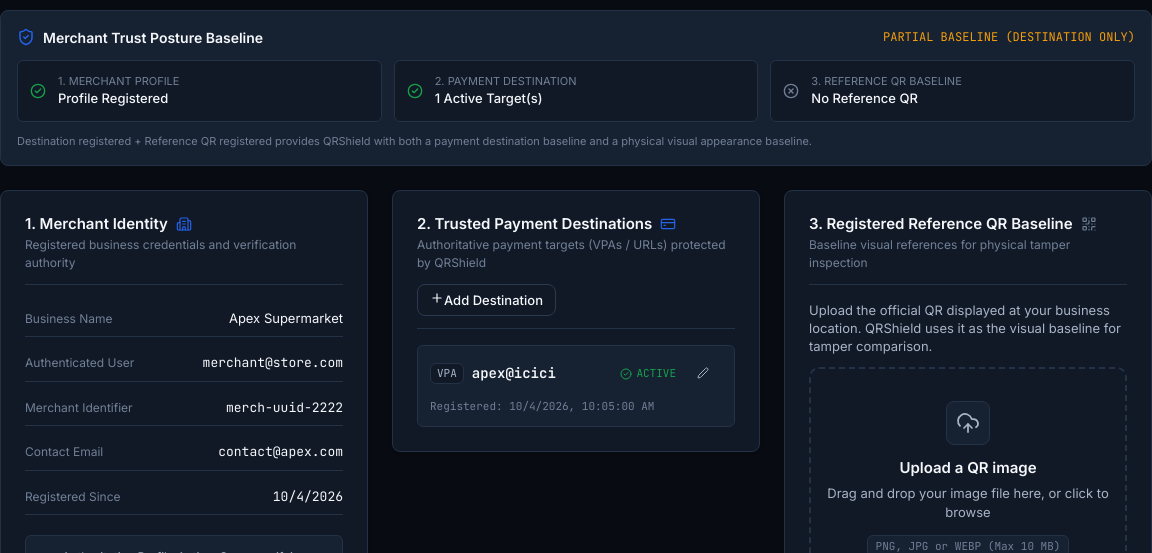
it: DashboardPage & Protected Route Tests › 12. destination error renders correctly when registration fails
Click the button "Add Destination" at (486, 300), box [417,284,556,316]
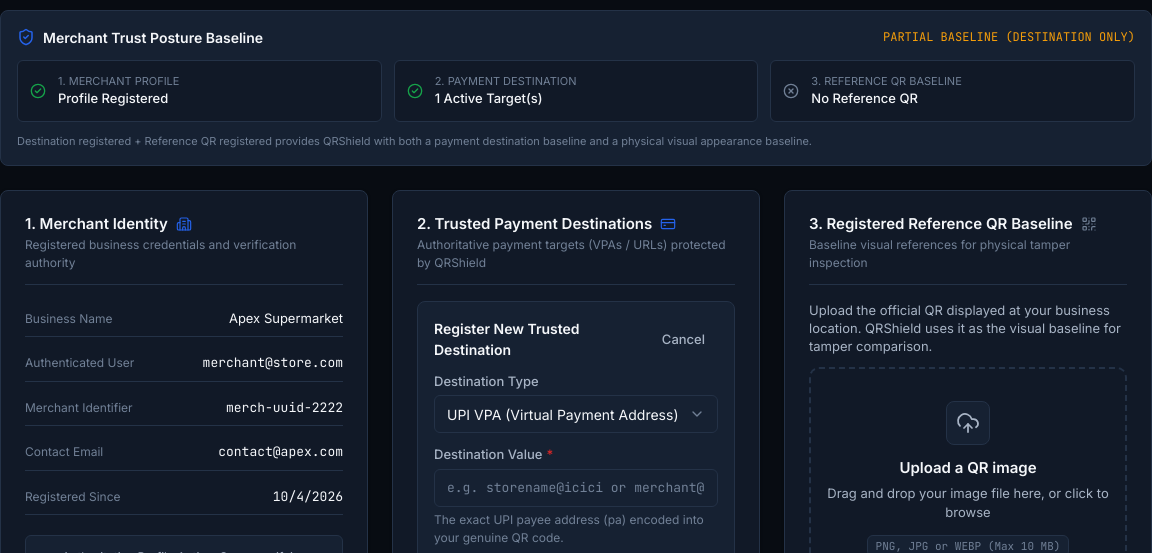
Type "bad@domain" into the field labelled "Destination Value" at (576, 488), box [434,469,718,507]
(page scrolled)
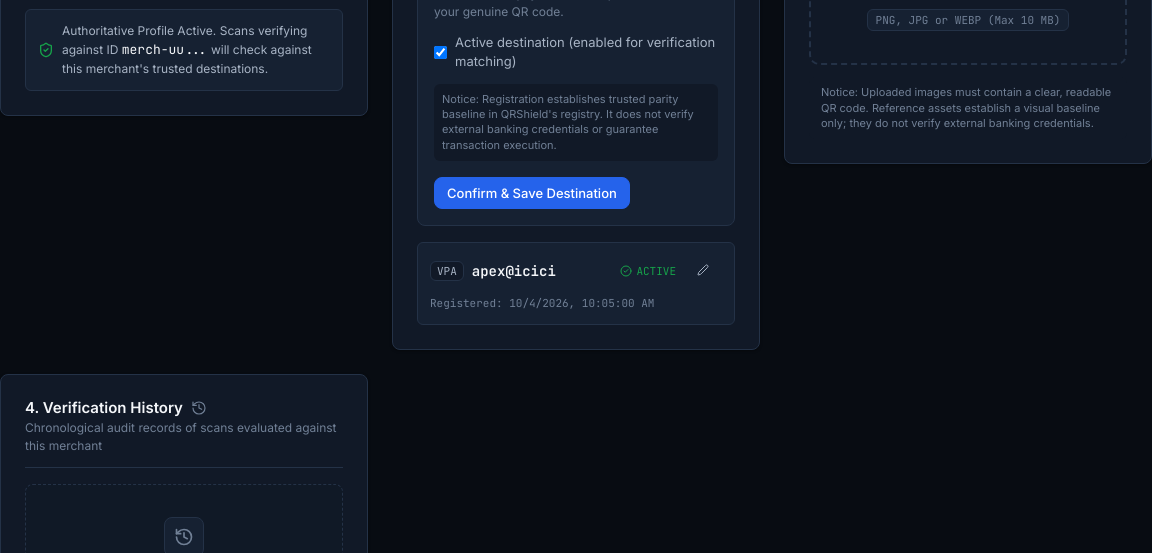
Click the button "Confirm & Save Destination" at (532, 193), box [434,177,630,209]
(page scrolled)
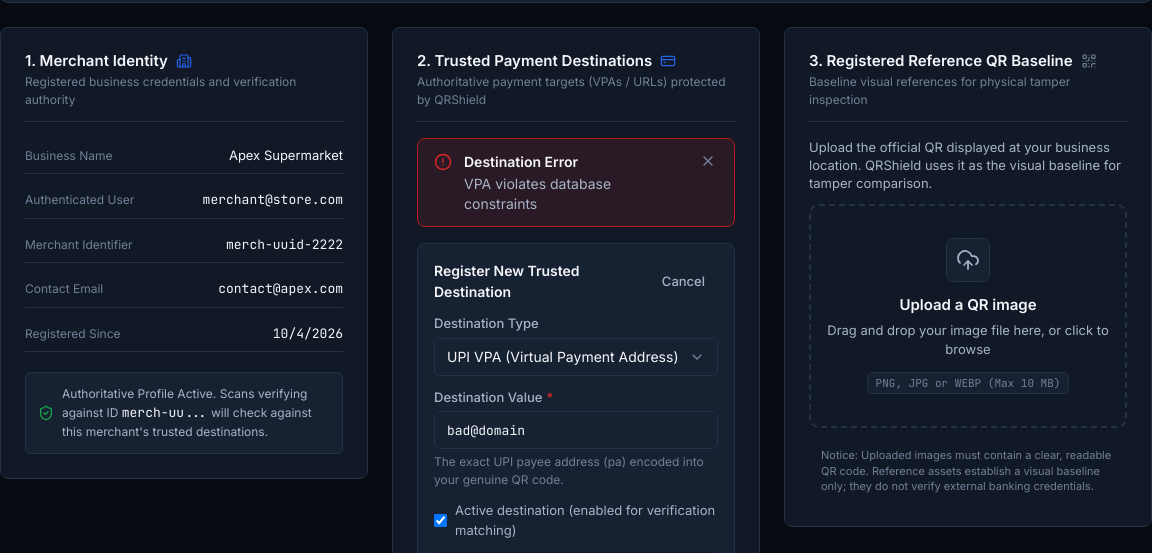
Expected: the text "Destination Error" is shown, [464,153,578,170]
Expected: the text "VPA violates database constraints" is shown, [464,175,611,212]
